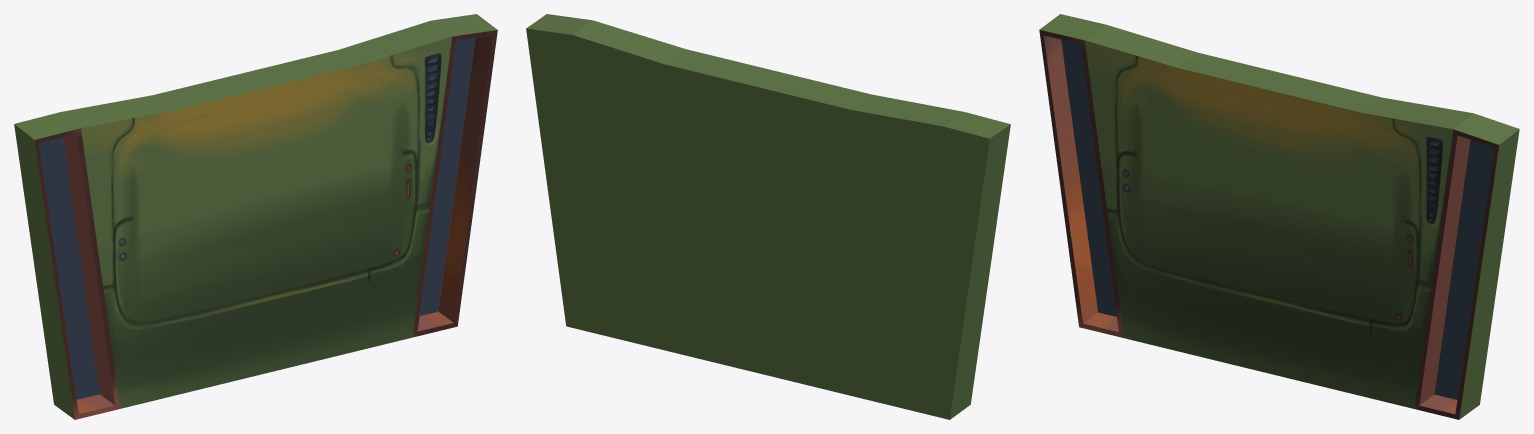
Rendered from stul_3.obj.
3 renders of one model, left to right at view 1: azimuth 30°, elevation 25°; view 2: azimuth 150°, elevation 25°; view 3: azimuth 330°, elevation 25°, orthographic.
Visible parts, largest first — view 1: Cube.001; view 2: Cube.001; view 3: Cube.001.
Boxes of the visible parts, x1,y1,x2,y2 form: Cube.001: [14, 14, 497, 419]; Cube.001: [526, 14, 1010, 419]; Cube.001: [1039, 14, 1519, 419].
Size of the model in its own units: 11.67 by 7.04 by 0.9206.
